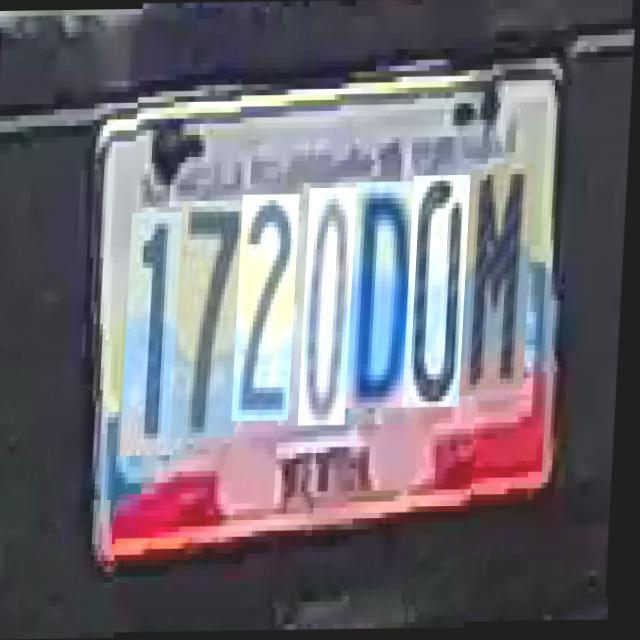0: (407, 176, 472, 408)
1: (125, 213, 188, 457)
2: (236, 195, 302, 422)
7: (176, 202, 248, 439)
D: (350, 182, 423, 410)
M: (463, 170, 536, 397)
O: (303, 188, 359, 426)
